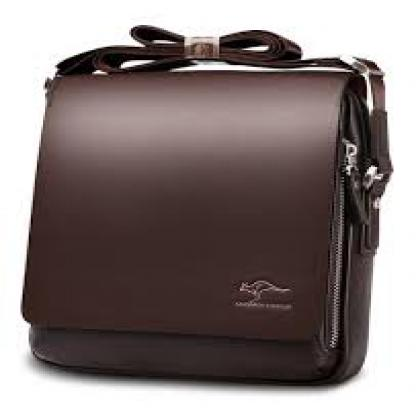morral: (19, 27, 394, 389)
